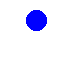circle: (26, 10, 46, 30)
